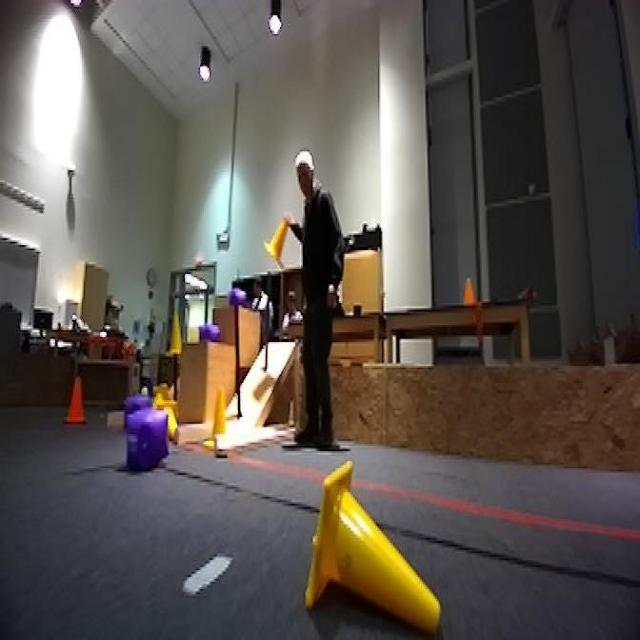frc_cone: (299, 465, 444, 611), (204, 386, 228, 448), (266, 211, 294, 264), (161, 306, 187, 361), (160, 396, 181, 436), (150, 379, 174, 402)
frc_cube: (126, 410, 168, 475), (196, 318, 224, 339), (224, 288, 247, 308), (122, 395, 149, 412)
